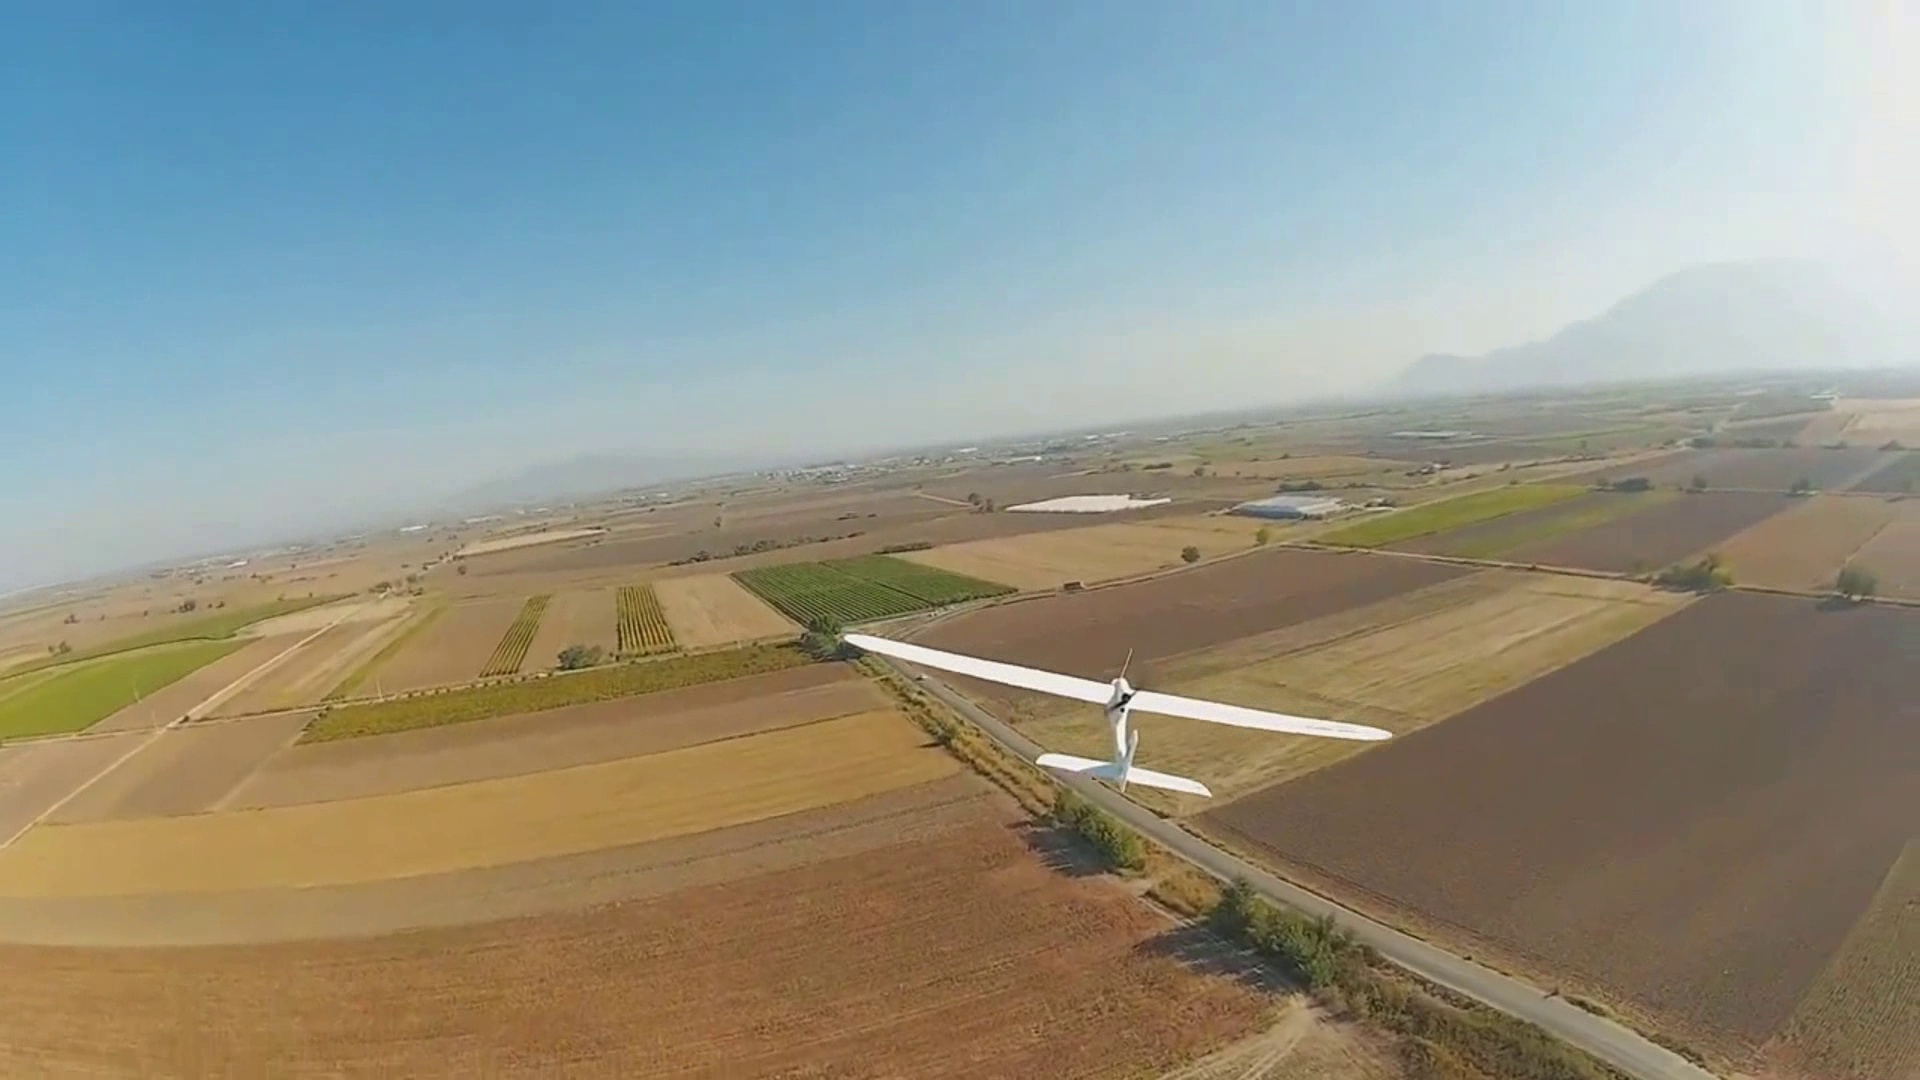airplane: (841, 597, 1913, 1067)
